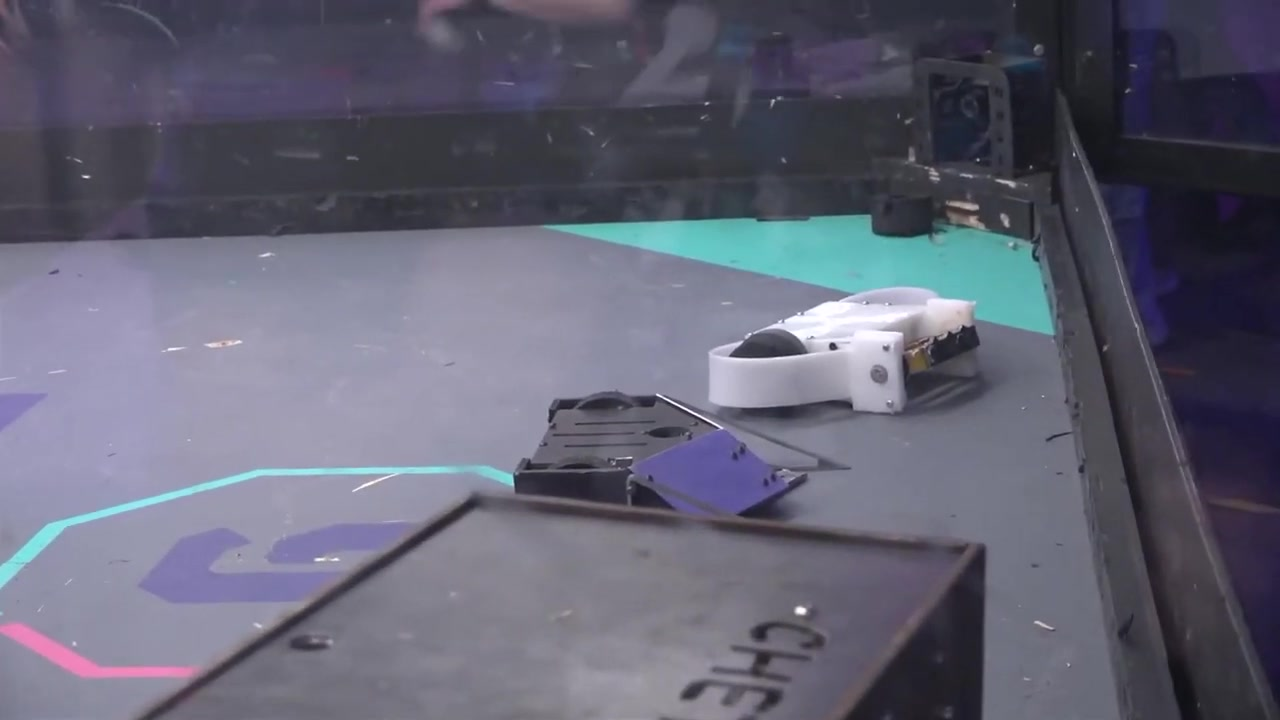combatbot: (514, 391, 851, 545), (709, 290, 989, 419)
housebot: (131, 493, 986, 720)
wheel: (871, 194, 932, 236)
